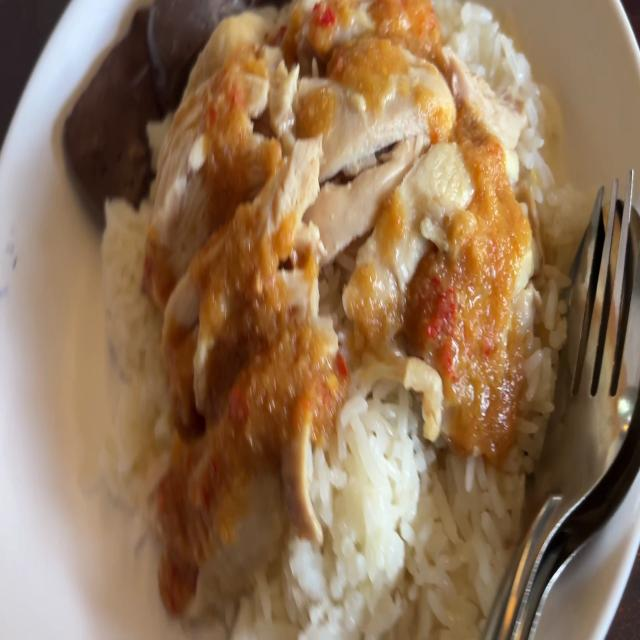chicken_rice: (160, 8, 517, 486)
noodle: (66, 4, 166, 200), (151, 0, 219, 80)
